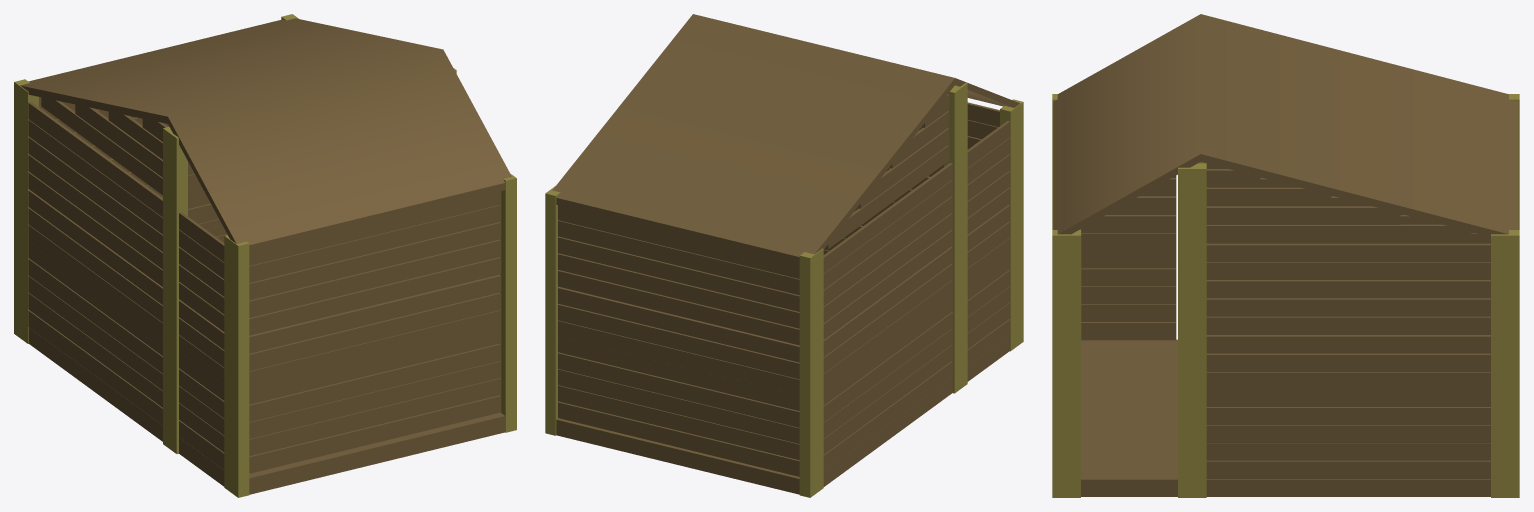
The model's file is shed_1.fbx.
3 views of the same model, side by side, from view 1: azimuth 30°, elevation 25°; view 2: azimuth 150°, elevation 25°; view 3: azimuth 270°, elevation 25° (orthographic). The views are drawn at different scales.
Parts seen in each view (by area): view 1: polySurface987; view 2: polySurface987; view 3: polySurface987.
Boxes of the visible parts, x1,y1,x2,y2 form: polySurface987: (14, 14, 516, 497); polySurface987: (545, 14, 1023, 497); polySurface987: (1052, 14, 1519, 497).
Bounding box in the file's own units: 54.19 × 60.88 × 75.26.
